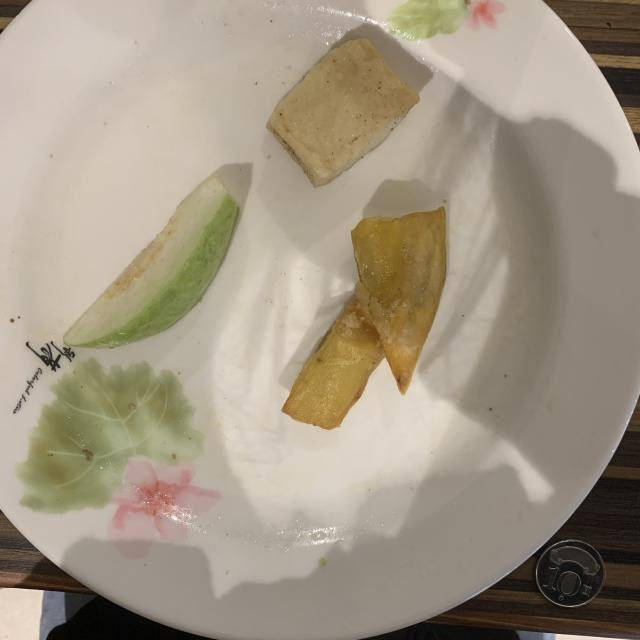coin: (536, 540, 605, 608)
creamy tofu -without sauce-: (266, 39, 419, 188)
guava -sliced-: (64, 175, 239, 348)
